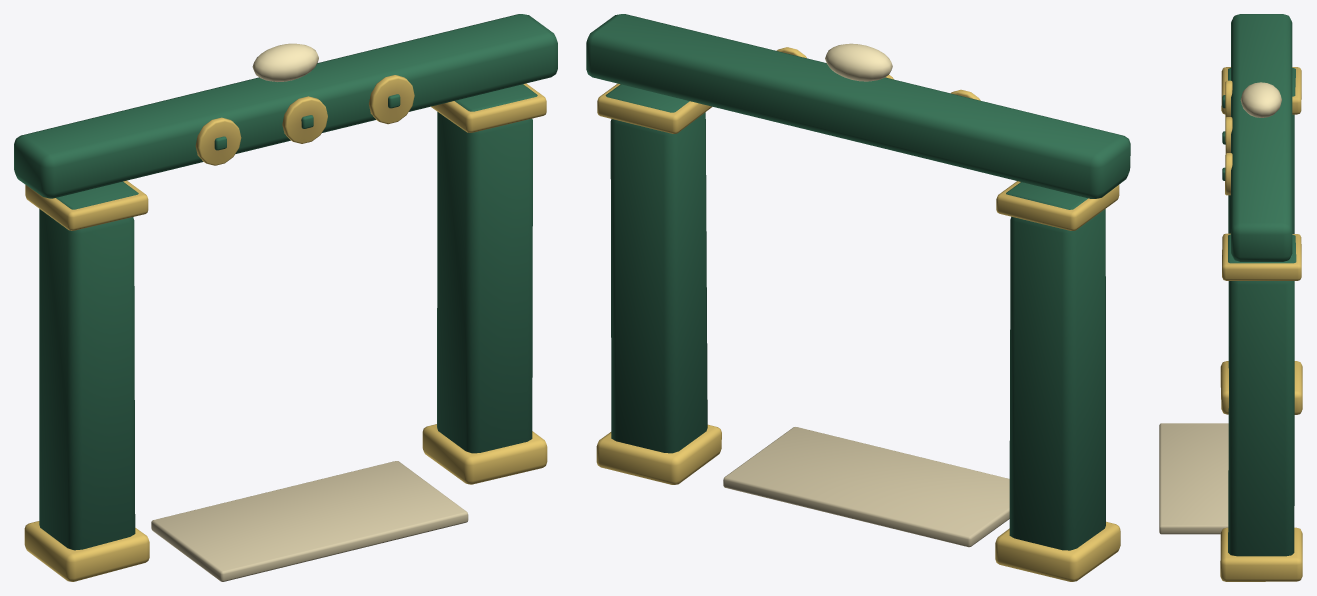
3 renders of one model, left to right at view 1: azimuth 30°, elevation 25°; view 2: azimuth 150°, elevation 25°; view 3: azimuth 270°, elevation 25°, orthographic. The views are drawn at different scales.
Parts seen in each view (by area): view 1: gate_249f6ffe; view 2: gate_249f6ffe; view 3: gate_249f6ffe.
Part boxes in pixels (x1,y1,x2,y2): gate_249f6ffe: (14, 14, 557, 581); gate_249f6ffe: (586, 14, 1130, 581); gate_249f6ffe: (1159, 14, 1302, 581).
Size of the model in its own units: 5.01 by 4.29 by 1.4.
